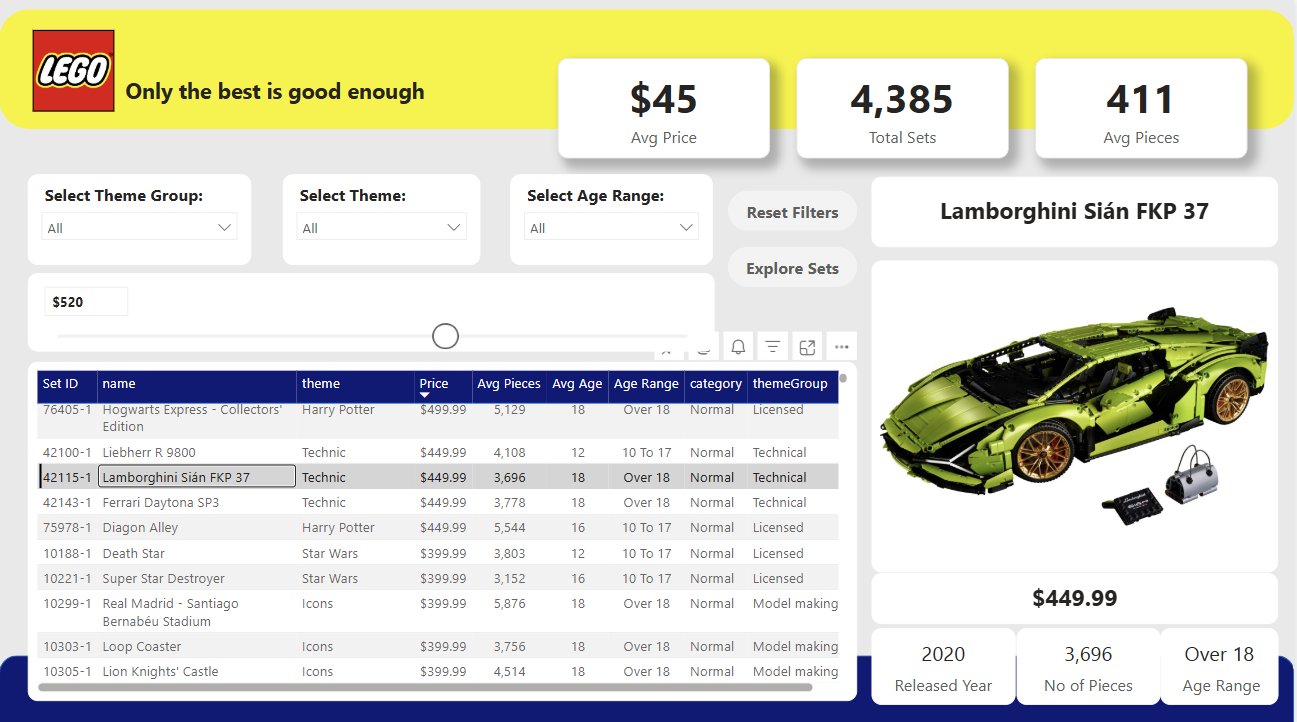

What the dashboard file says about the page in this screenshot:
{"tool":"powerbi","page":{"name":"Home","canvas":[1280,720],"ordinal":0},"visuals":[{"type":"shape","box":[0,10.9,1280,118.2],"z":0},{"type":"image","box":[29,23.2,90.5,96.5],"z":1000},{"type":"shape","box":[0,649.1,1280,71.2],"z":2000},{"type":"card","fields":{"Values":["Measure Table.Total Sets"]},"box":[788.2,59.1,209.9,98.9],"z":3000},{"type":"card","fields":{"Values":["Measure Table.Avg Price"]},"box":[552.3,59.1,209.9,98.9],"z":4000},{"type":"card","fields":{"Values":["Measure Table.Avg Pieces"]},"box":[1024.1,59.1,209.9,98.9],"z":5000},{"type":"slicer","fields":{"Values":["TBL_lego.themeGroup"]},"box":[28.8,173.5,220.8,89.3],"z":6000},{"type":"slicer","fields":{"Values":["TBL_lego.theme"]},"box":[279.7,173.5,195.4,89.3],"z":7000},{"type":"slicer","fields":{"Values":["TBL_lego.Age Range"]},"box":[505.3,173.5,200.3,89.3],"z":8000},{"type":"tableEx","fields":{"Values":["TBL_lego.set_id","TBL_lego.name","TBL_lego.theme","TBL_lego.Price","Measure Table.Avg Pieces","Measure Table.Avg Age","TBL_lego.Age Range","TBL_lego.category","TBL_lego.themeGroup"]},"box":[29,359.5,819.2,335.4],"z":9000},{"type":"simpleImageEBC4593F96F1425FB3D84C5BF02B5075","fields":{"imageURL":["TBL_lego.imageURL"]},"box":[862.1,259.9,401.7,307.6],"z":10000},{"type":"card","fields":{"Values":["Measure Table.Selected Name"]},"box":[862.1,176.6,401.7,70],"z":11000},{"type":"card","fields":{"Values":["Measure Table.Selected Year"]},"box":[862.1,621.8,142.4,76],"z":12000},{"type":"card","fields":{"Values":["Measure Table.Selected Pieces"]},"box":[1004.5,621.8,142.4,76],"z":13000},{"type":"card","fields":{"Values":["Measure Table.Selected Age Range"]},"box":[1146.8,621.8,117,76],"z":14000},{"type":"card","fields":{"Values":["Measure Table.Selected Price"]},"box":[862.1,567.5,401.7,50.7],"z":15000},{"type":"textbox","box":[119.4,71.2,333,47.1],"z":16000},{"type":"slicer","fields":{"Values":["Max Price.Max Price"]},"box":[29,271.4,446.4,77.2],"z":17000},{"type":"actionButton","box":[720.2,175.9,127.9,39.8],"z":18000},{"type":"actionButton","box":[720.2,231.4,127.9,39.8],"z":19000},{"type":"textFilter25A4896A83E0487089E2B90C9AE57C8A","fields":{"field":["TBL_lego.name"]},"box":[505.5,285.9,342.6,63.9],"z":20000}]}

Visuals, with their boxes in screenshot pixels (x1, y1, x2, y2), scaled from the page's 1280x720 canvas onto the 1297x722 screenshot:
shape: <bbox>0, 11, 1296, 129</bbox>
image: <bbox>29, 23, 121, 120</bbox>
shape: <bbox>0, 651, 1296, 721</bbox>
card - Measure Table.Total Sets: <bbox>799, 59, 1011, 158</bbox>
card - Measure Table.Avg Price: <bbox>560, 59, 772, 158</bbox>
card - Measure Table.Avg Pieces: <bbox>1038, 59, 1250, 158</bbox>
slicer - TBL_lego.themeGroup: <bbox>29, 174, 253, 264</bbox>
slicer - TBL_lego.theme: <bbox>283, 174, 481, 264</bbox>
slicer - TBL_lego.Age Range: <bbox>512, 174, 715, 264</bbox>
tableEx - TBL_lego.set_id x TBL_lego.name: <bbox>29, 360, 859, 697</bbox>
simpleImageEBC4593F96F1425FB3D84C5BF02B5075 - TBL_lego.imageURL: <bbox>874, 261, 1281, 569</bbox>
card - Measure Table.Selected Name: <bbox>874, 177, 1281, 247</bbox>
card - Measure Table.Selected Year: <bbox>874, 624, 1018, 700</bbox>
card - Measure Table.Selected Pieces: <bbox>1018, 624, 1162, 700</bbox>
card - Measure Table.Selected Age Range: <bbox>1162, 624, 1281, 700</bbox>
card - Measure Table.Selected Price: <bbox>874, 569, 1281, 620</bbox>
textbox: <bbox>121, 71, 458, 119</bbox>
slicer - Max Price.Max Price: <bbox>29, 272, 482, 350</bbox>
actionButton: <bbox>730, 176, 859, 216</bbox>
actionButton: <bbox>730, 232, 859, 272</bbox>
textFilter25A4896A83E0487089E2B90C9AE57C8A - TBL_lego.name: <bbox>512, 287, 859, 351</bbox>
